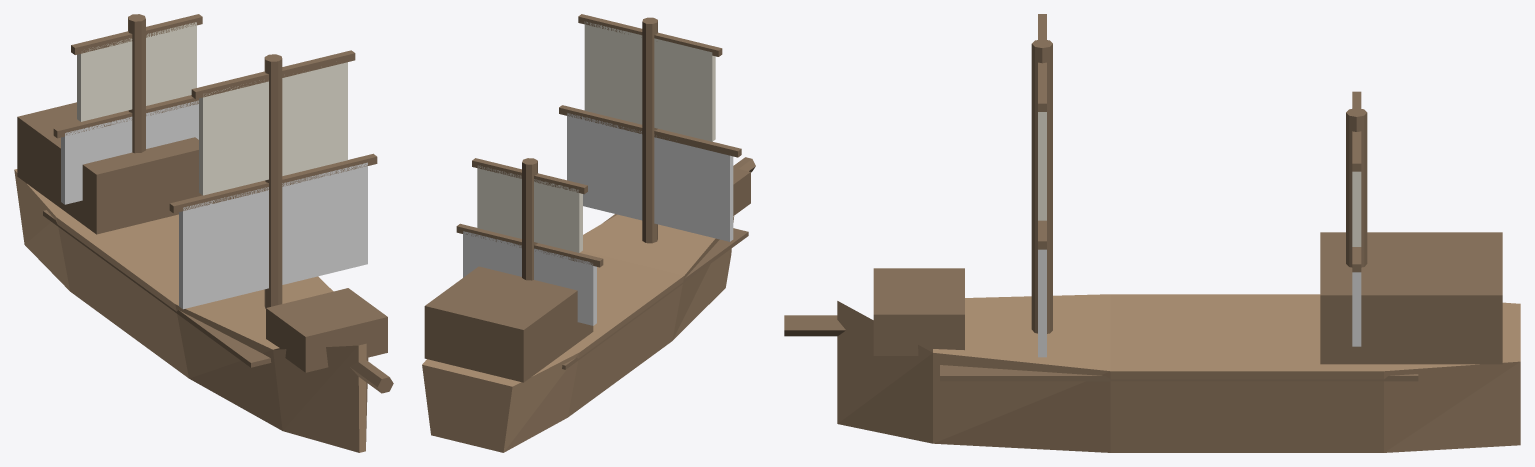
The model's file is Caravel.glb.
The picture shows the model from 3 angles, left to right: view 1: azimuth 30°, elevation 25°; view 2: azimuth 150°, elevation 25°; view 3: azimuth 270°, elevation 25°; orthographic projection. The views are drawn at different scales.
Visible parts, largest first — view 1: Body; view 2: Body; view 3: Body.
Part boxes in pixels (x1,y1,x2,y2): Body: (14, 14, 393, 452); Body: (422, 14, 755, 452); Body: (784, 14, 1520, 452).
Bounding box in the file's own units: 0.3564 × 0.55 × 0.97.
